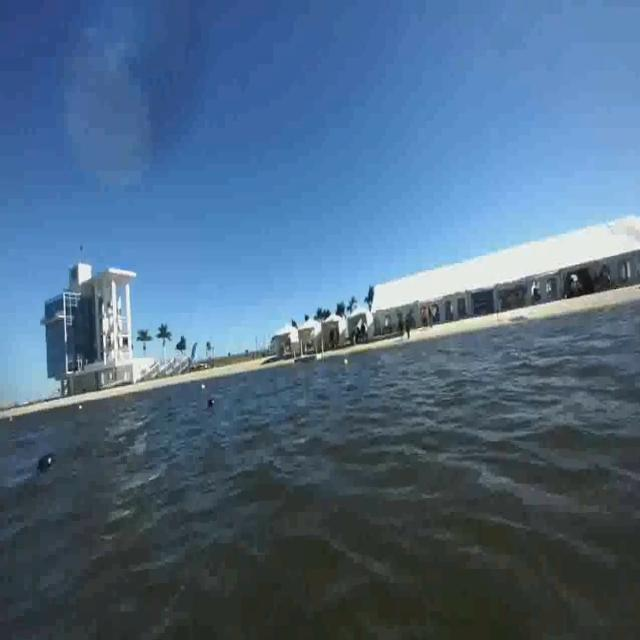black-buoy: (40, 450, 53, 470)
